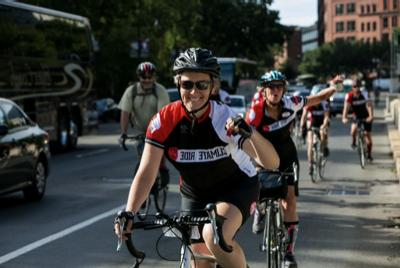With Helmet: (171, 43, 223, 117), (255, 66, 291, 108)
